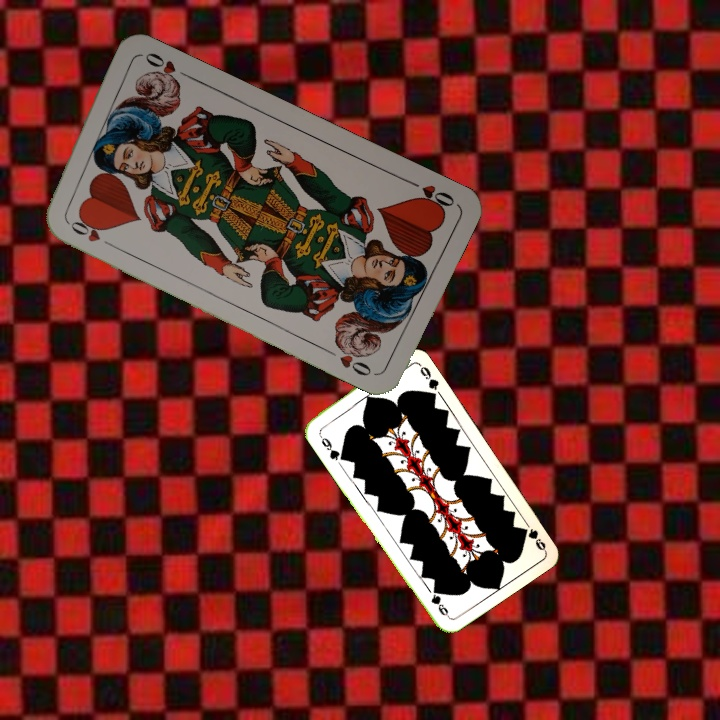G9: (518, 517, 548, 553), (314, 429, 345, 463)
HO: (402, 176, 457, 214), (62, 215, 117, 251)
